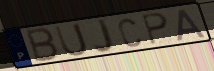A: (177, 8, 209, 42)
B: (25, 27, 61, 64)
C: (117, 17, 143, 49)
J: (93, 18, 116, 54)
P: (140, 12, 170, 46)
U: (53, 22, 89, 58)
